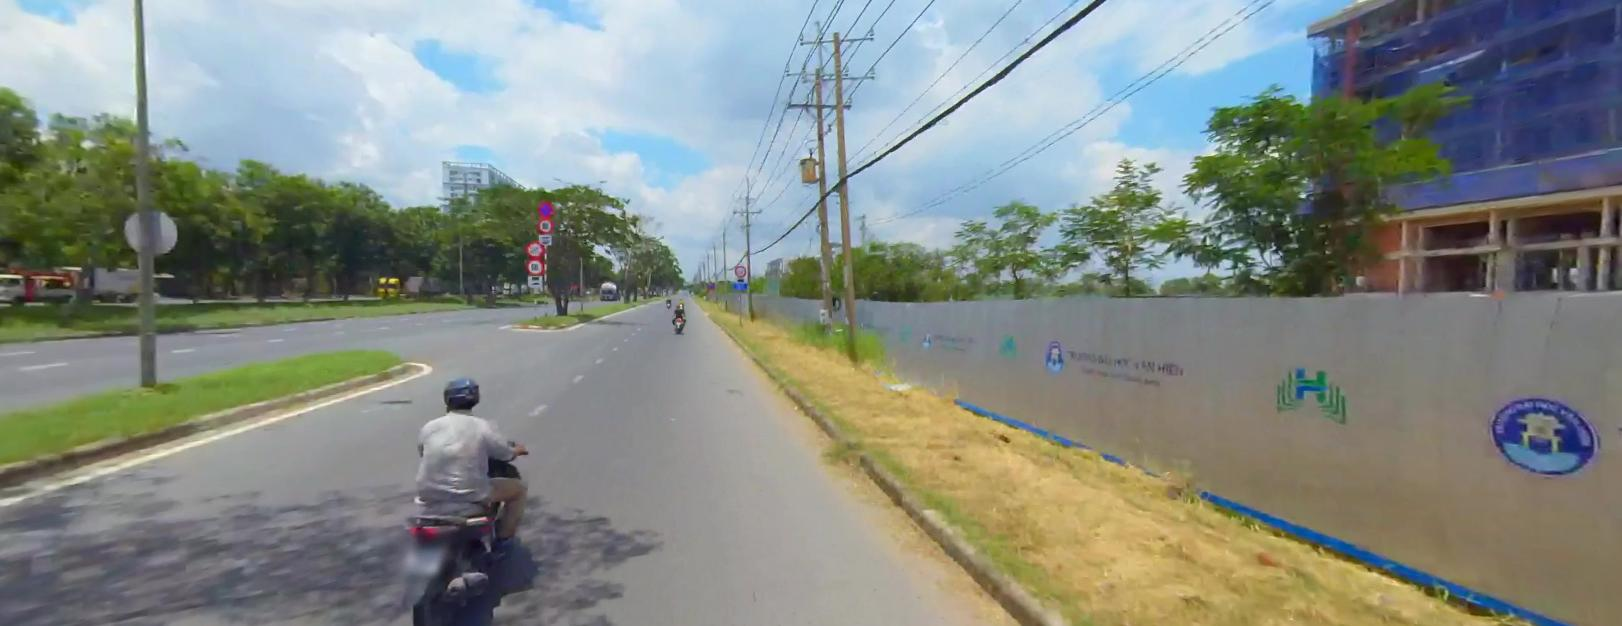Cam con lai: (526, 240, 545, 256), (734, 263, 746, 275)
Cam dung va do: (535, 199, 553, 213), (708, 281, 714, 287)
Gioi han toc do: (535, 214, 553, 234), (526, 260, 543, 272)
